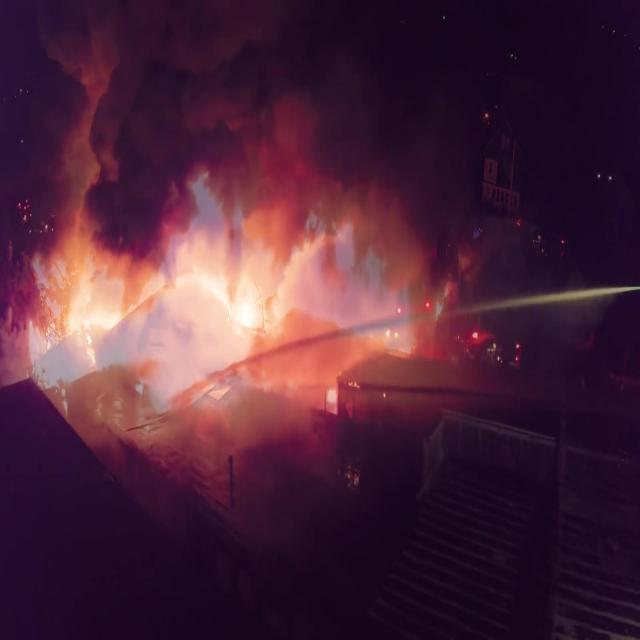Fire: (36, 194, 412, 406)
Smoke: (69, 0, 412, 248)
